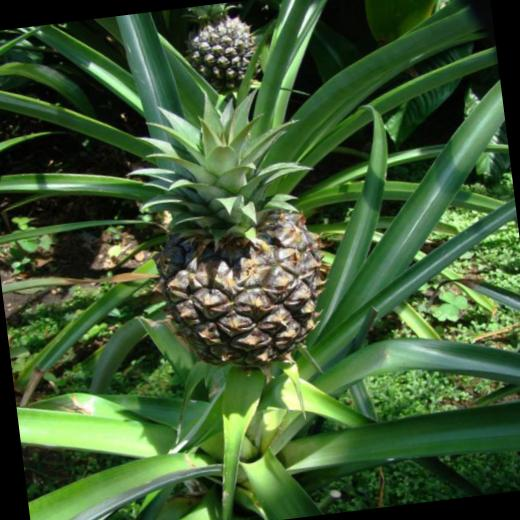Mango: (113, 75, 339, 390), (179, 0, 266, 92), (181, 0, 262, 92)
